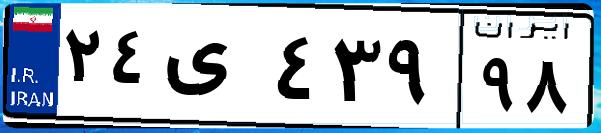2: (57, 26, 110, 100)
3: (330, 28, 385, 110)
4: (270, 28, 330, 110), (110, 28, 158, 98)
8: (525, 38, 570, 115)
9: (385, 28, 445, 110), (475, 38, 525, 113)
ی: (158, 20, 270, 120)
